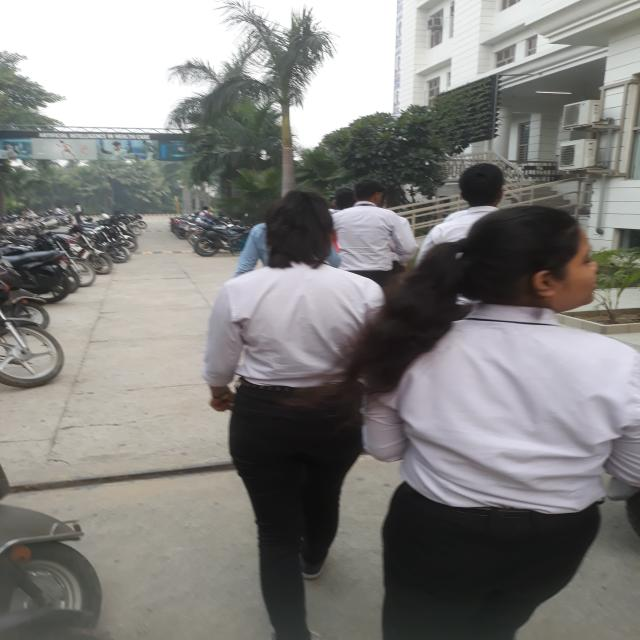unsafe: (391, 213, 640, 637), (220, 185, 356, 639), (340, 170, 415, 277)
